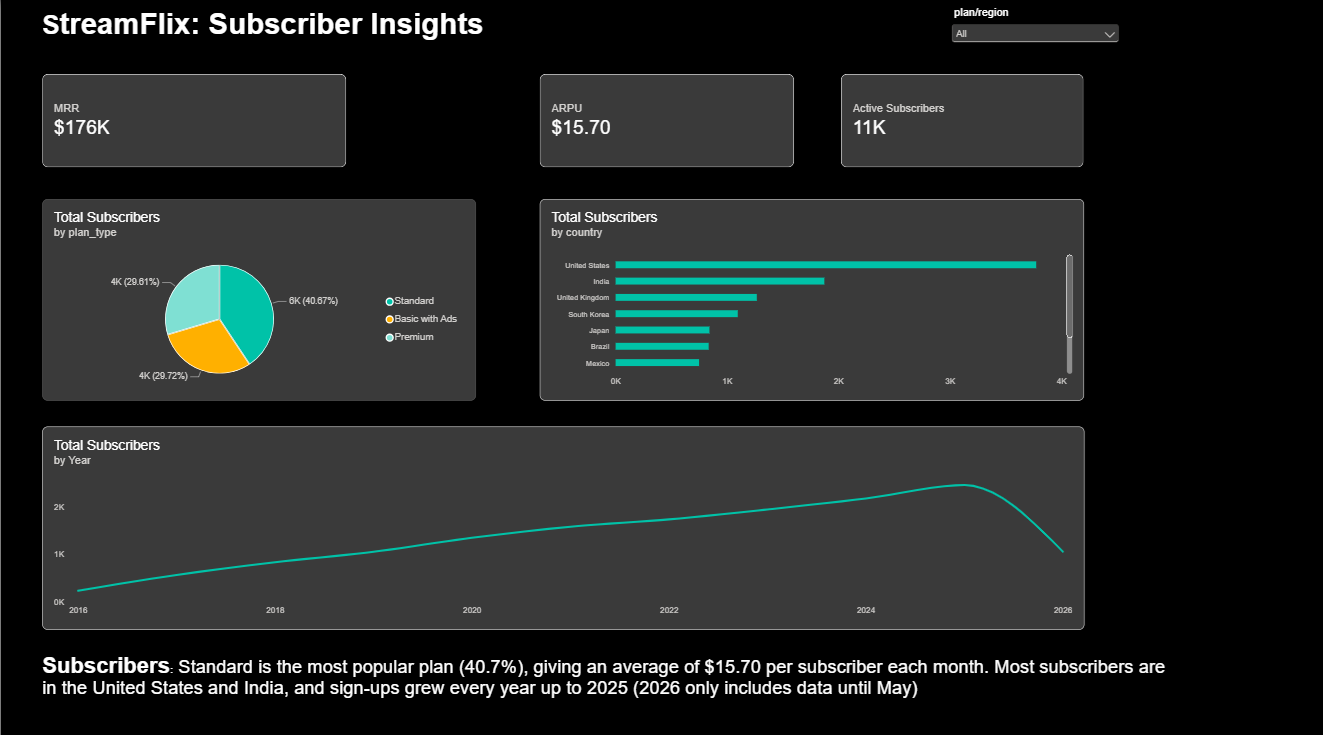

What the dashboard file says about the page in this screenshot:
{"tool":"powerbi","page":{"name":"Subscibers","canvas":[1920,1080],"ordinal":2},"visuals":[{"type":"textbox","box":[59.7,10.3,658.7,70],"z":0},{"type":"cardVisual","fields":{"Data":["clean_watch_history.MRR"]},"box":[59.7,109.1,440.5,135.8],"z":1},{"type":"cardVisual","fields":{"Data":["clean_watch_history.ARPU"]},"box":[780.1,109.1,368.4,135.8],"z":2},{"type":"cardVisual","fields":{"Data":["clean_watch_history.Active Subscribers"]},"box":[1216.5,109.1,352,135.8],"z":3},{"type":"pieChart","fields":{"Category":["clean_subscribers.plan_type"],"Y":["clean_watch_history.Total Subscribers"]},"box":[59.7,290.2,627.8,292.3],"z":4},{"type":"lineChart","fields":{"Category":["clean_subscribers.signup_date.Variation.Date Hierarchy.Year","clean_subscribers.signup_date.Variation.Date Hierarchy.Month"],"Y":["clean_watch_history.Total Subscribers"]},"box":[59.7,619.6,1508.8,294.3],"z":6},{"type":"slicer","fields":{"Values":["clean_subscribers.plan_type","clean_subscribers.region"]},"box":[1370.8,10.3,251.1,88.5],"z":7},{"type":"textbox","box":[59.7,946.8,1626.1,113.2],"z":8},{"type":"clusteredBarChart","fields":{"Category":["clean_subscribers.country"],"Y":["clean_watch_history.Total Subscribers"]},"box":[780.1,290.2,788.3,292.3],"z":9}]}

Visuals, with their boxes in screenshot pixels (x1, y1, x2, y2), scaled from the page's 1920x1080 canvas onto the 1323x735 screenshot:
textbox: <box>41,7,495,55</box>
cardVisual - clean_watch_history.MRR: <box>41,74,345,167</box>
cardVisual - clean_watch_history.ARPU: <box>538,74,791,167</box>
cardVisual - clean_watch_history.Active Subscribers: <box>838,74,1081,167</box>
pieChart - clean_subscribers.plan_type x clean_watch_history.Total Subscribers: <box>41,197,474,396</box>
lineChart - clean_subscribers.signup_date.Variation.Date Hierarchy.Year x clean_subscribers.signup_date.Variation.Date Hierarchy.Month: <box>41,422,1081,622</box>
slicer - clean_subscribers.plan_type x clean_subscribers.region: <box>945,7,1118,67</box>
textbox: <box>41,644,1162,721</box>
clusteredBarChart - clean_subscribers.country x clean_watch_history.Total Subscribers: <box>538,197,1081,396</box>
